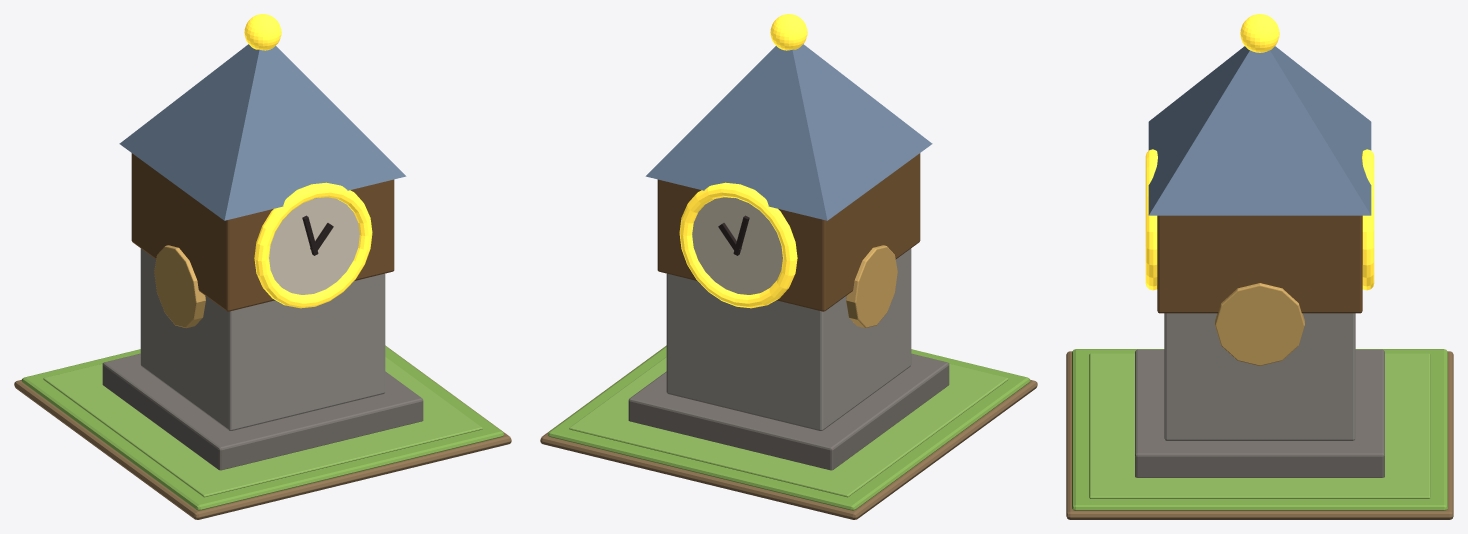
Rendered from clock_tower_lv4.glb.
3 views of the same model, side by side, from view 1: azimuth 30°, elevation 25°; view 2: azimuth 150°, elevation 25°; view 3: azimuth 270°, elevation 25° (orthographic). The views are drawn at different scales.
Parts seen in each view (by area): view 1: CT_SpireRoof, CT_LowerShaft, CT_UpperHousing, Base_Inner, CT_Plinth, Base_Grass, ClockDial_-1, Base_Dirt, ClockBezel_-1, CT_SideGear_-1, CT_ApexOrb; view 2: CT_SpireRoof, CT_LowerShaft, CT_UpperHousing, Base_Inner, CT_Plinth, Base_Grass, ClockDial_1, Base_Dirt, ClockBezel_1, CT_SideGear_-1, CT_ApexOrb; view 3: CT_SpireRoof, CT_LowerShaft, Base_Inner, CT_UpperHousing, CT_Plinth, Base_Grass, Base_Dirt, CT_SideGear_1, ClockBezel_1, ClockBezel_-1, CT_ApexOrb.
Boxes of the visible parts, x1,y1,x2,y2 form: CT_SpireRoof: (119, 44, 406, 220); CT_LowerShaft: (140, 248, 385, 430); CT_UpperHousing: (131, 153, 394, 311); Base_Inner: (43, 357, 482, 497); CT_Plinth: (102, 353, 423, 470); Base_Grass: (21, 346, 504, 510); ClockDial_-1: (269, 197, 359, 294); Base_Dirt: (14, 345, 511, 519); ClockBezel_-1: (254, 182, 372, 308); CT_SideGear_-1: (154, 245, 205, 328); CT_ApexOrb: (244, 14, 281, 50); CT_SpireRoof: (645, 44, 932, 220); CT_LowerShaft: (666, 248, 911, 430); CT_UpperHousing: (657, 153, 920, 311); Base_Inner: (569, 357, 1008, 497); CT_Plinth: (628, 353, 949, 470); Base_Grass: (547, 346, 1030, 510); ClockDial_1: (692, 197, 782, 294); Base_Dirt: (540, 345, 1037, 519); ClockBezel_1: (679, 182, 797, 308); CT_SideGear_-1: (846, 245, 897, 328); CT_ApexOrb: (770, 14, 807, 50); CT_SpireRoof: (1148, 46, 1371, 215); CT_LowerShaft: (1164, 313, 1355, 440); Base_Inner: (1089, 353, 1430, 498); CT_UpperHousing: (1157, 215, 1362, 313); CT_Plinth: (1135, 349, 1384, 477); Base_Grass: (1072, 349, 1447, 510); Base_Dirt: (1066, 351, 1453, 519); CT_SideGear_1: (1215, 283, 1304, 365); ClockBezel_1: (1362, 149, 1374, 290); ClockBezel_-1: (1145, 149, 1157, 290); CT_ApexOrb: (1240, 14, 1279, 52).
Bounding box in the file's own units: 2.76 × 3.33 × 2.76.
